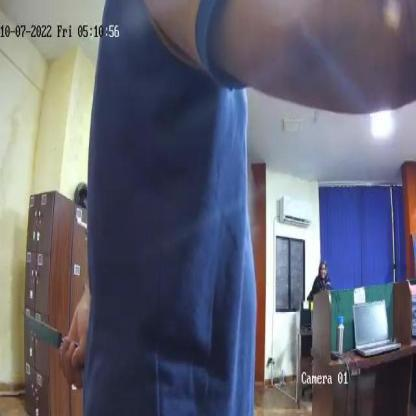Knife: (22, 310, 82, 384)
